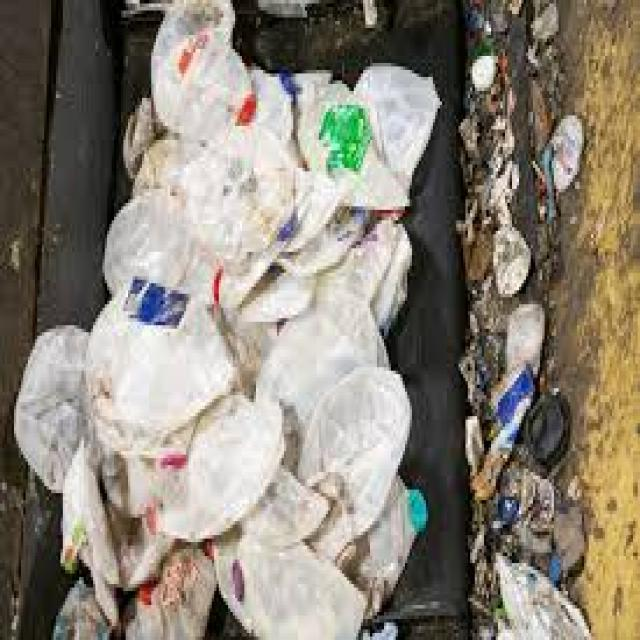plastic: (100, 28, 426, 640)
